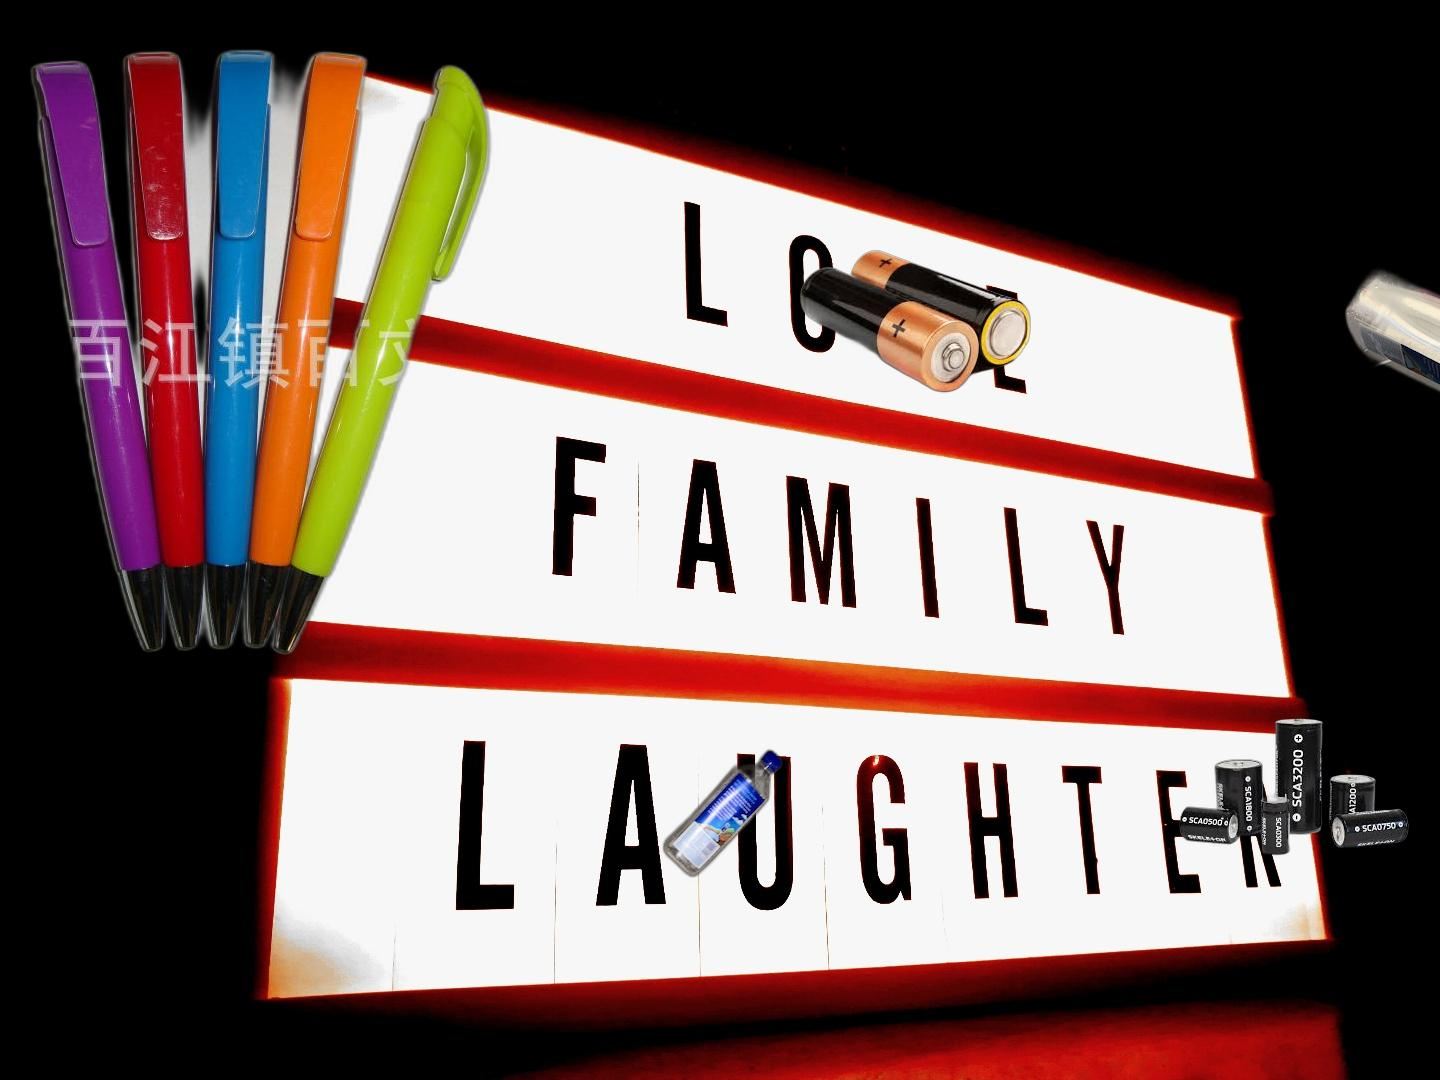battery: (797, 248, 1034, 395), (1177, 715, 1411, 858)
penholder: (22, 43, 499, 660)
plastic-bottles: (1212, 262, 1440, 847), (659, 876, 1089, 1080), (658, 744, 787, 883)
